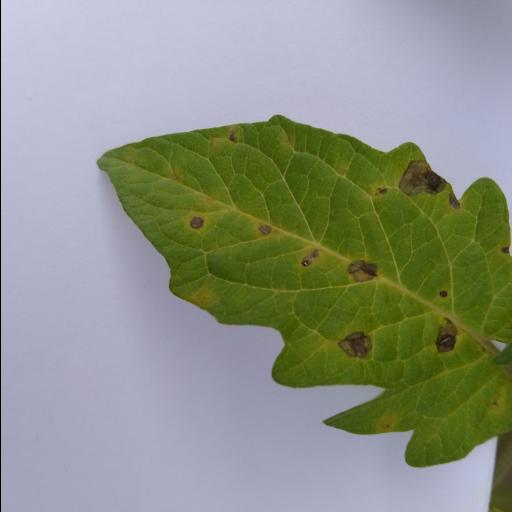disease_tomato: (100, 115, 512, 469)
